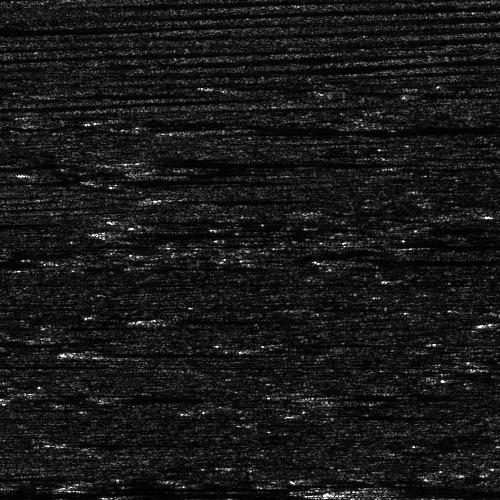object: (105, 212, 178, 229), (290, 486, 405, 495), (126, 315, 199, 322), (126, 193, 189, 200), (77, 228, 140, 235), (321, 258, 384, 263), (467, 318, 500, 327), (50, 350, 103, 355)
shadow: (0, 488, 500, 495), (142, 212, 324, 229), (0, 495, 498, 500), (348, 486, 500, 495), (77, 350, 253, 355), (158, 193, 280, 200), (162, 315, 283, 322), (109, 228, 228, 235), (353, 258, 480, 263)
